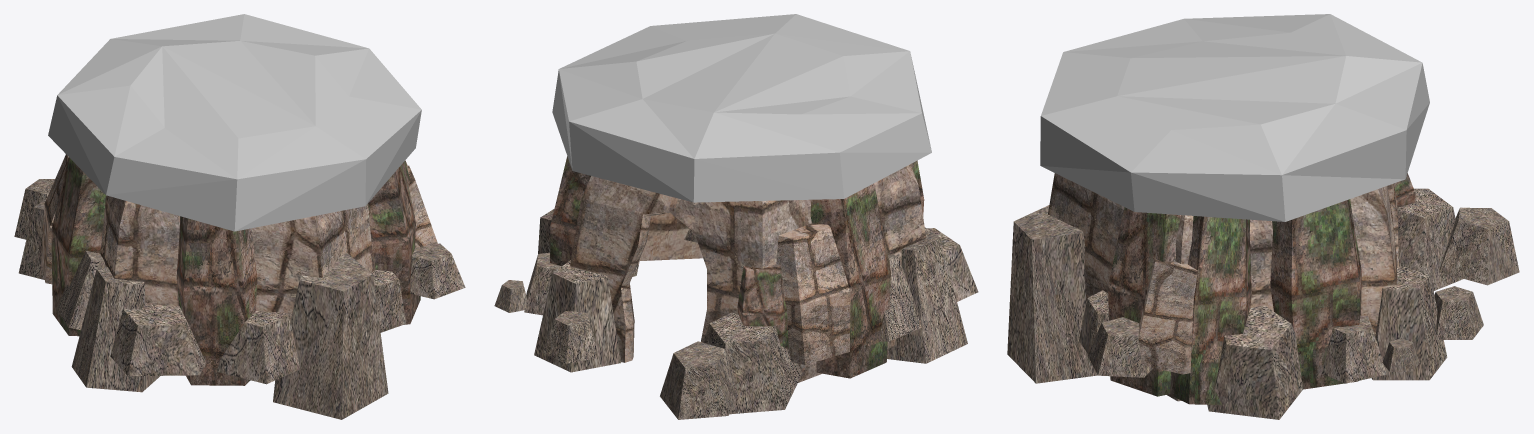
The model's file is thm_dant_large_rock_hut_l1.fbx.
3 renders of one model, left to right at view 1: azimuth 30°, elevation 25°; view 2: azimuth 150°, elevation 25°; view 3: azimuth 270°, elevation 25°, orthographic. The views are drawn at different scales.
Visible parts, largest first — view 1: mesh_node; view 2: mesh_node; view 3: mesh_node.
Part boxes in pixels (x1,y1,x2,y2): mesh_node: (14,14,465,419); mesh_node: (494,14,978,419); mesh_node: (1007,14,1519,419).
Size of the model in its own units: 11.29 by 7.94 by 12.88.
